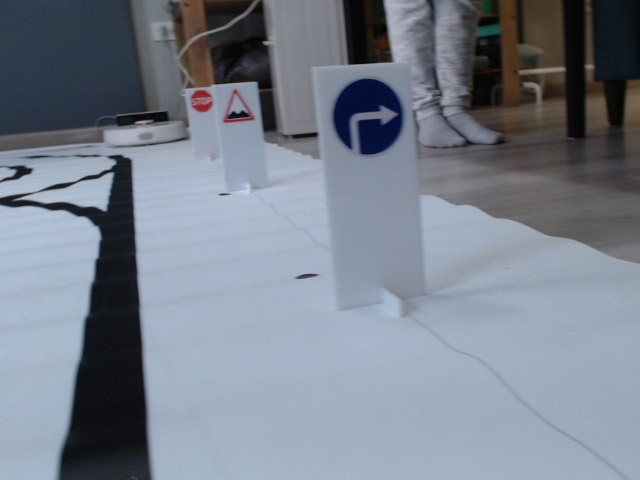Nerov: (223, 88, 255, 123)
Right: (333, 78, 405, 159)
Stop: (189, 87, 213, 115)
